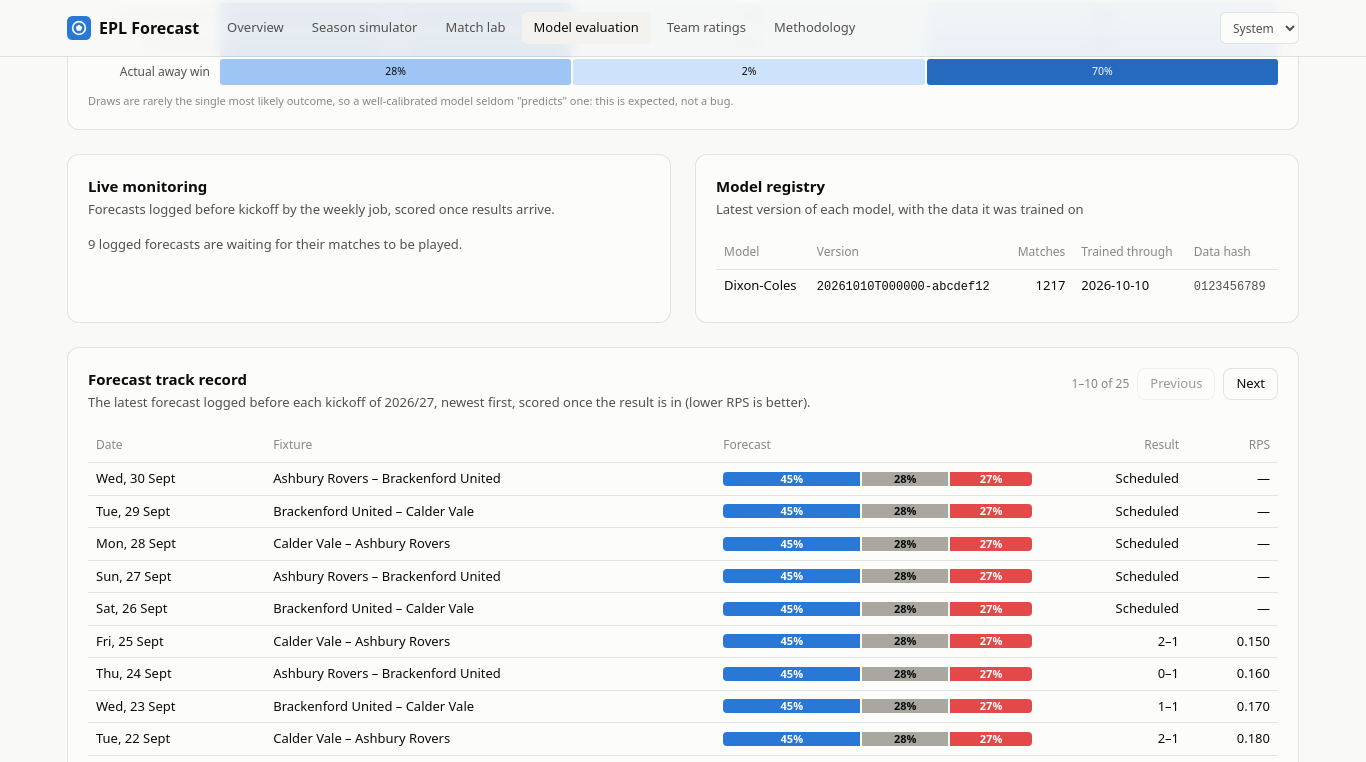
Test: forecast track record › pages through the log, keeping the shown page visible while the next one loads
The image size is (1366, 762).
(page scrolled)
Expected: the text "1–10 of 25" is shown, [1071, 375, 1129, 393]
Expected: the text "Ashbury Rovers – Brackenford United" next to "Wed, 30 Sept" is shown, [273, 469, 501, 487]
Click the button with aria-label "Next page".
click(1251, 384)  # box [1224, 368, 1278, 400]
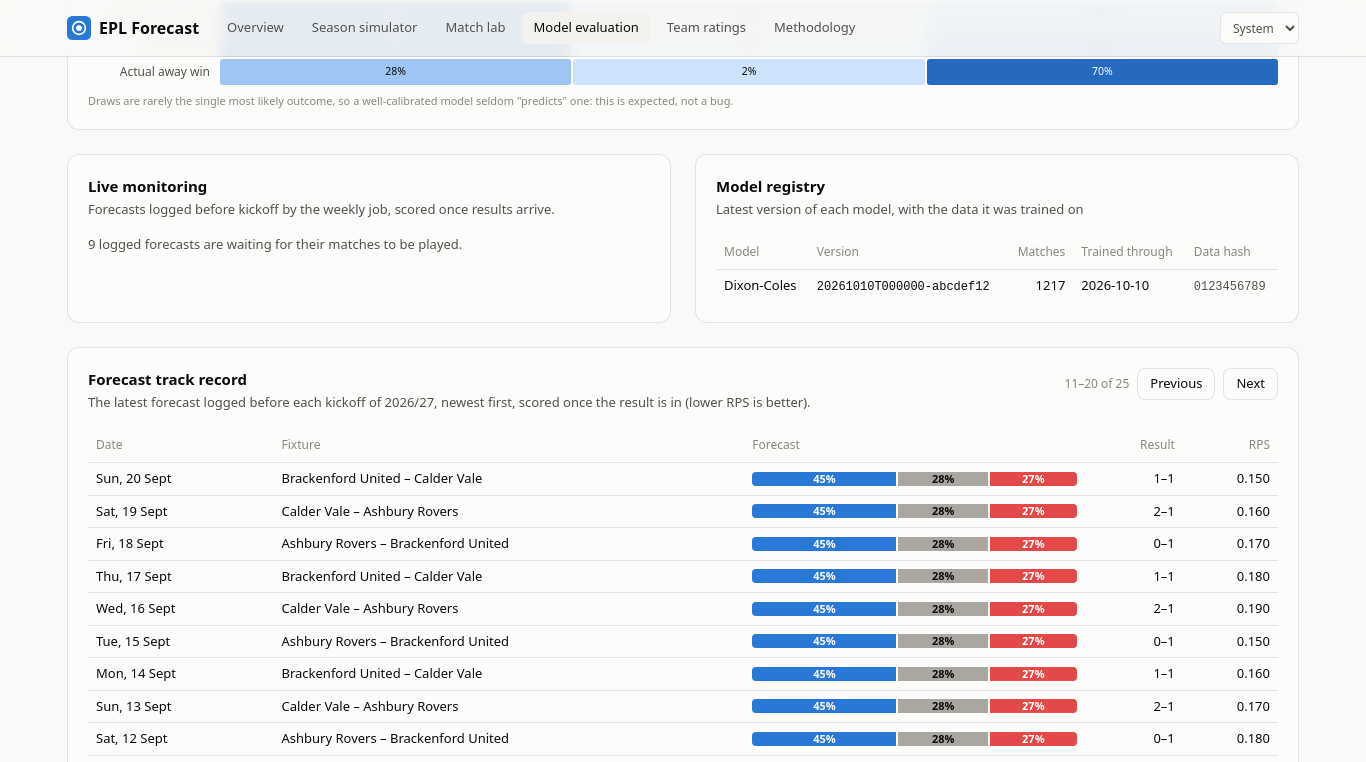
Expected: the text "11–20 of 25" is shown, [1064, 375, 1129, 393]
Click the button with aria-label "Next page".
click(1251, 384)  # box [1224, 368, 1278, 400]
(page scrolled)
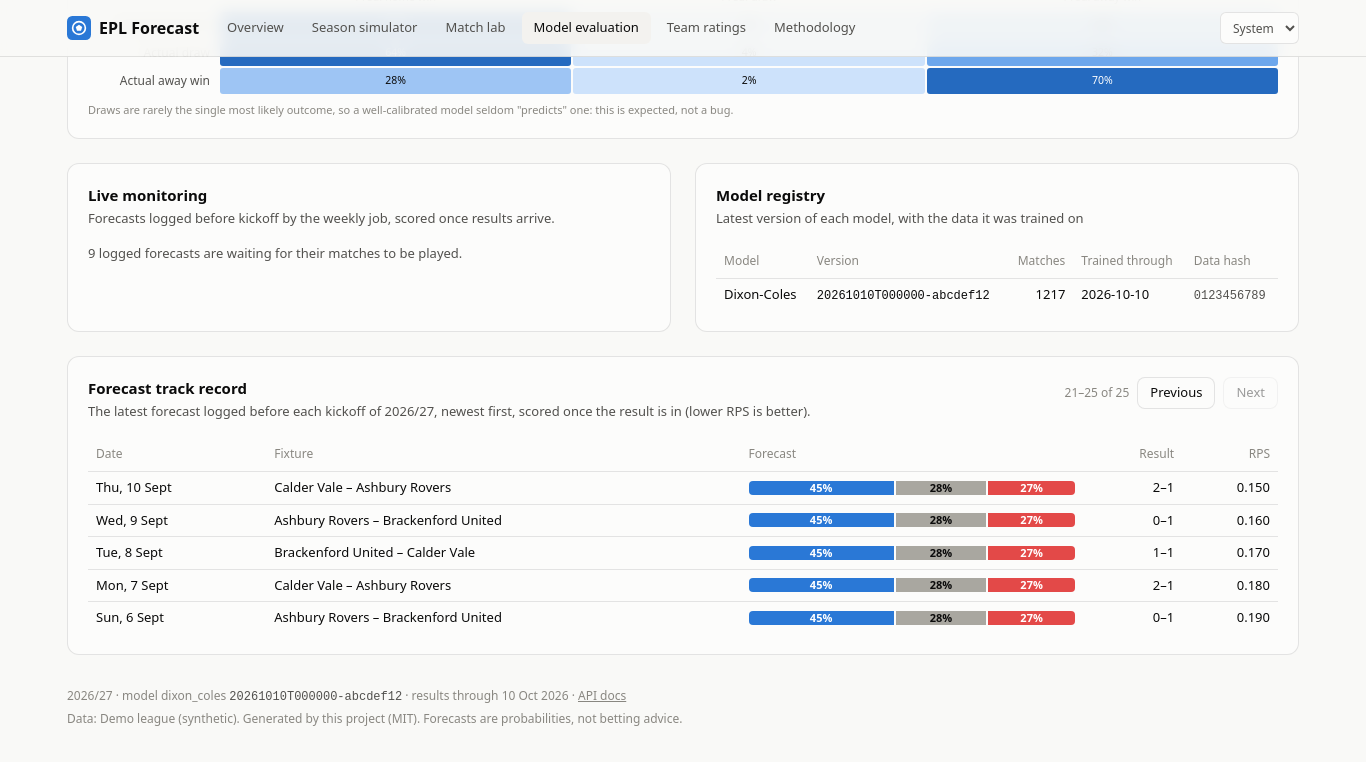
Expected: the text "21–25 of 25" is shown, [1064, 384, 1129, 402]
Click the button with aria-label "Previous page".
click(1176, 393)  # box [1137, 377, 1215, 409]
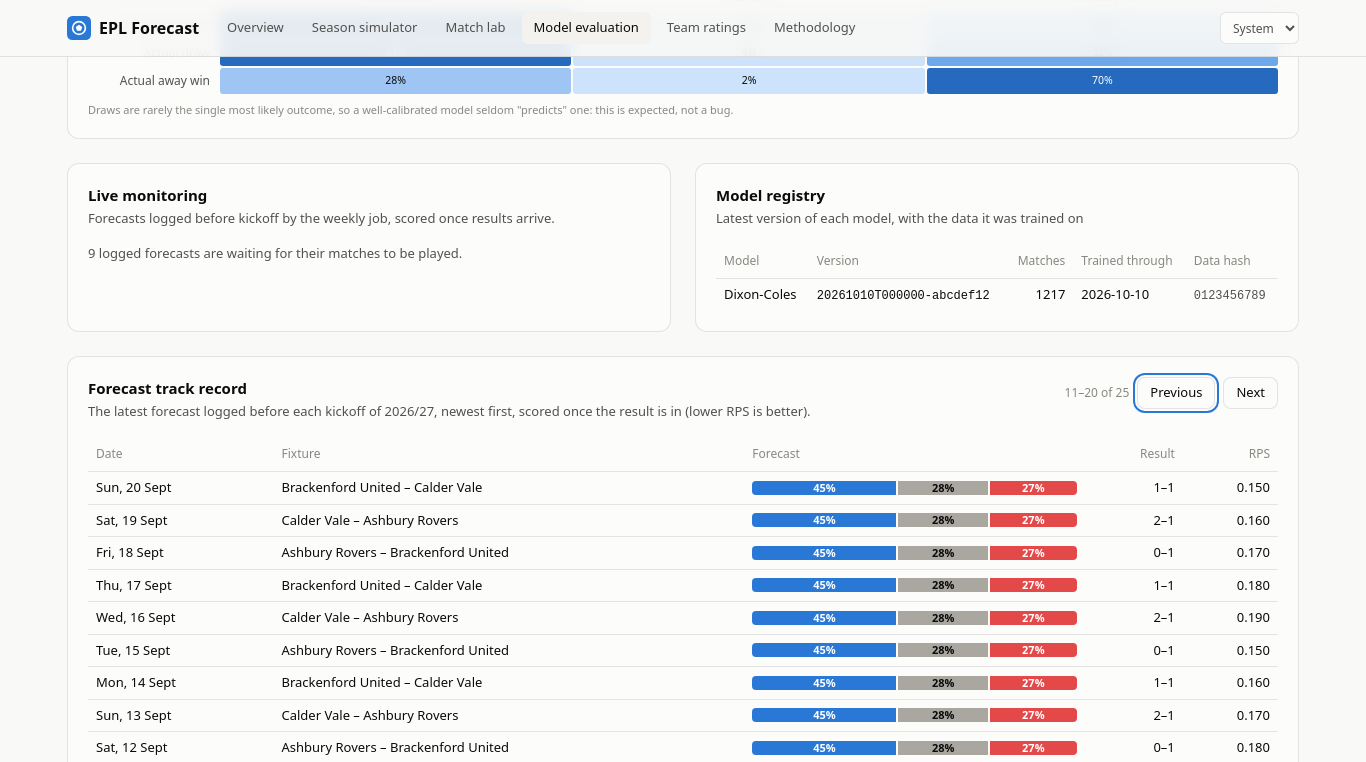
Expected: the text "11–20 of 25" is shown, [1064, 384, 1129, 402]
